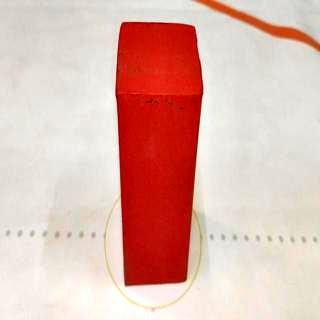redbox: (114, 19, 204, 288)
